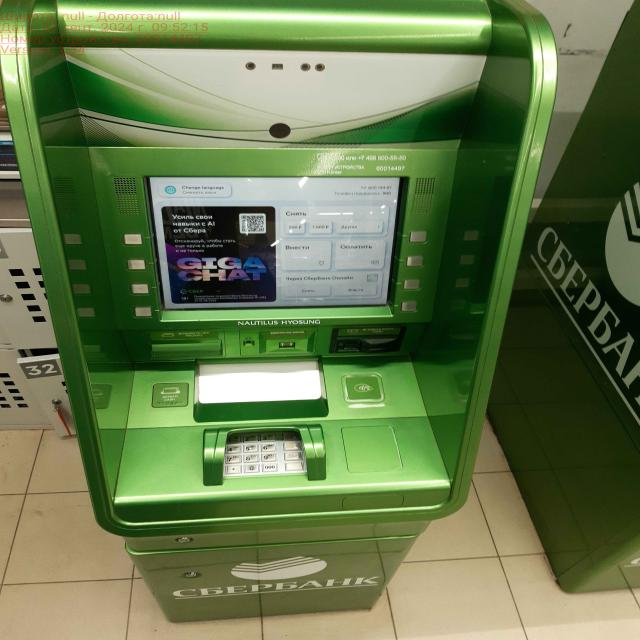bank: (0, 0, 559, 601), (478, 0, 640, 593)
